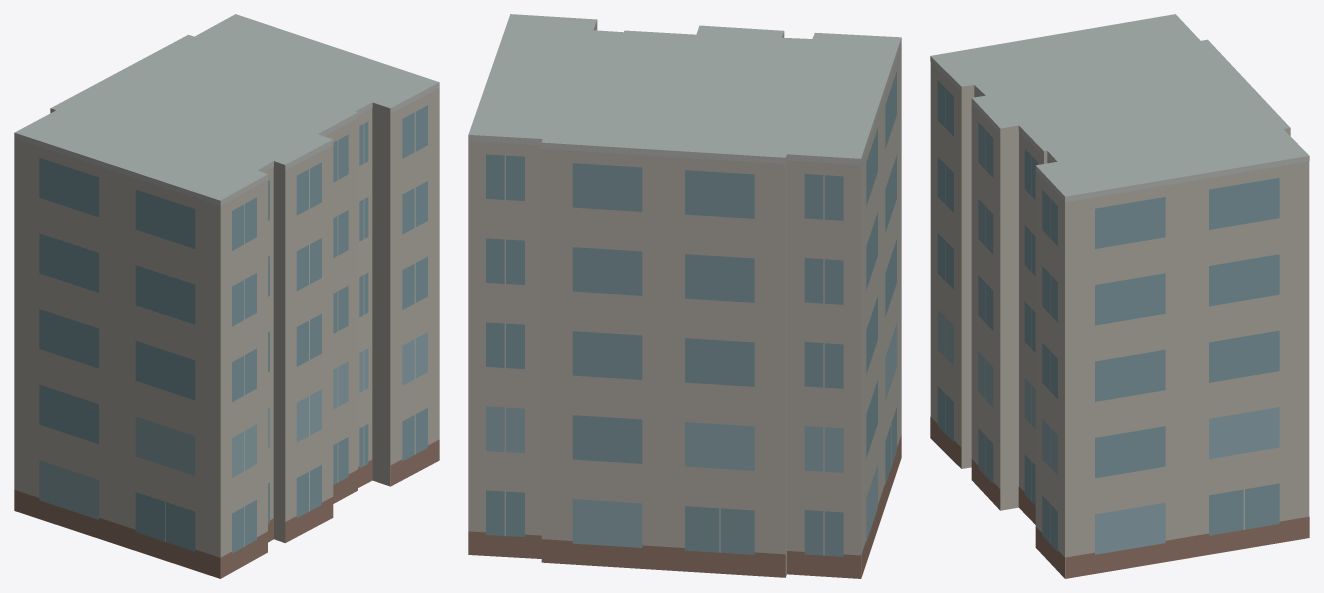
The model's file is survey-upis-32853759.glb.
3 views of the same model, side by side, from view 1: azimuth 30°, elevation 25°; view 2: azimuth 150°, elevation 25°; view 3: azimuth 270°, elevation 25° (orthographic). The views are drawn at different scales.
Visible parts, largest first — view 1: survey-upis-32853759.tmp; view 2: survey-upis-32853759.tmp; view 3: survey-upis-32853759.tmp.
Boxes of the visible parts, x1,y1,x2,y2 form: survey-upis-32853759.tmp: (14, 14, 439, 578); survey-upis-32853759.tmp: (468, 14, 901, 578); survey-upis-32853759.tmp: (930, 14, 1309, 578).
Bounding box in the file's own units: 17.13 × 16.7 × 15.02.
